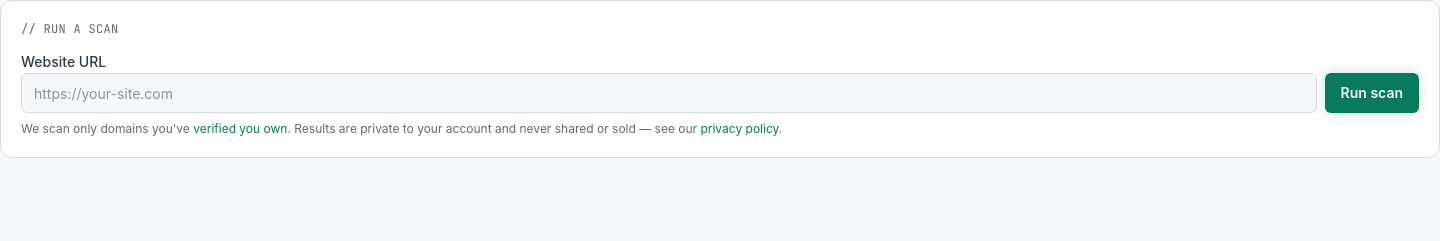
Test: RunScanForm › shows a plain error, with no verification link, for other failures
Type "https://example.com" into the field labelled "Website URL" at (669, 93), box [21,73,1317,113]
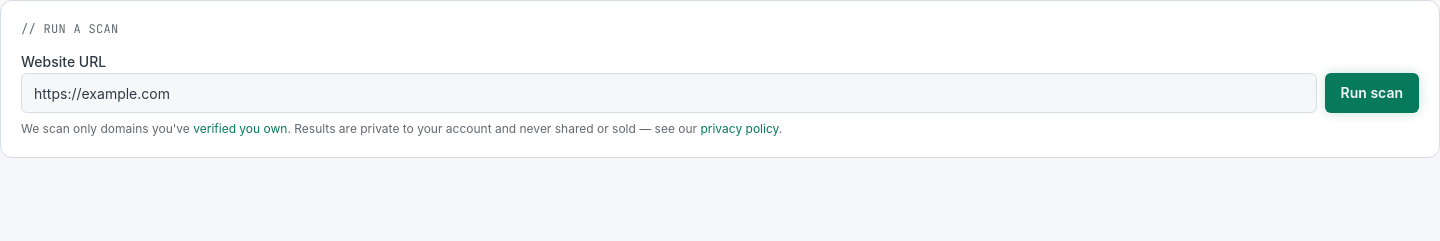
Click the button "Run scan" at (1372, 93), box [1325,73,1419,113]
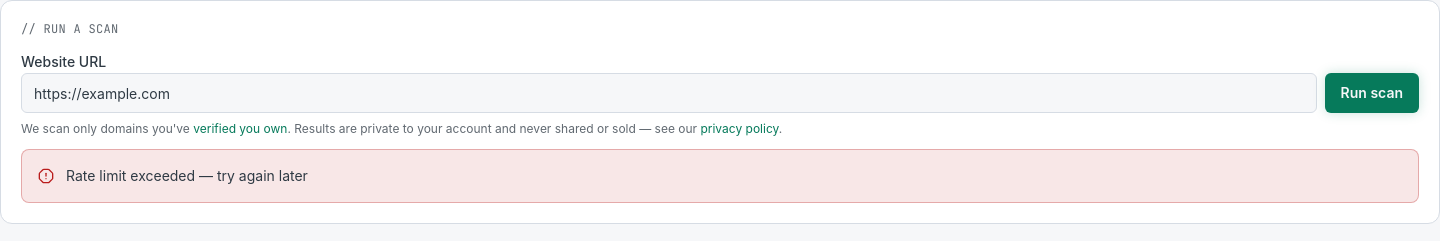
Result: the message shows "Rate limit exceeded" at [66,167,308,184]
